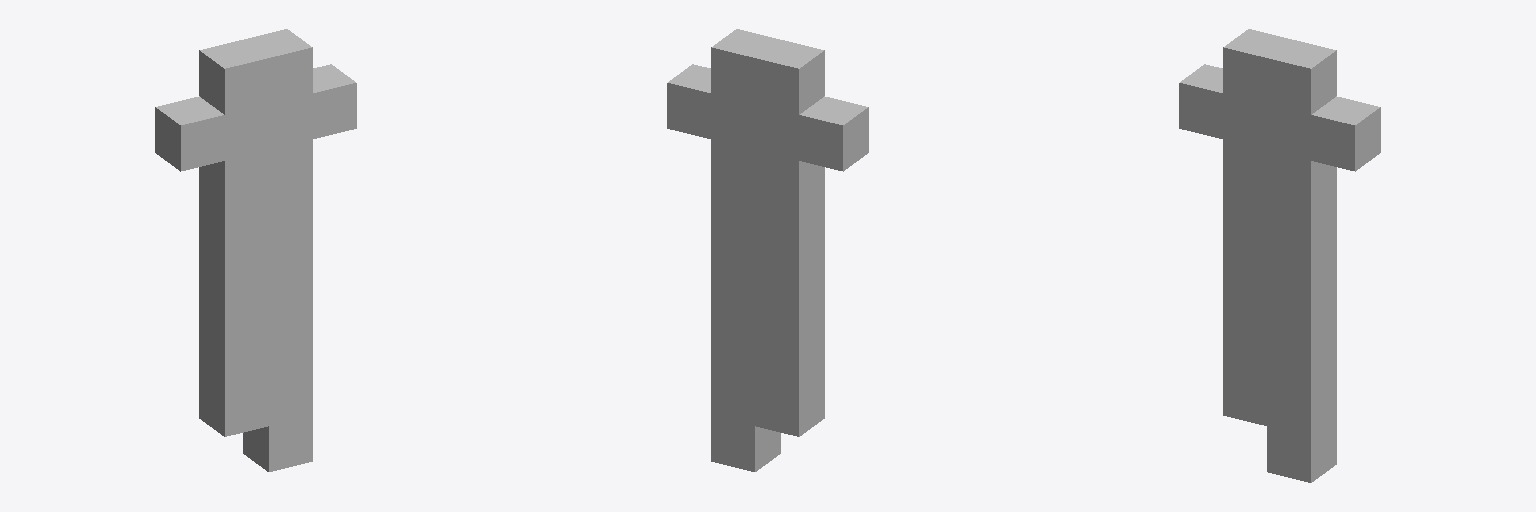
File: player-0.obj
The picture shows the model from 3 angles: view 1: azimuth 30°, elevation 25°; view 2: azimuth 150°, elevation 25°; view 3: azimuth 330°, elevation 25°; orthographic projection.
Parts seen in each view (by area): view 1: object 1; view 2: object 1; view 3: object 1.
Boxes of the visible parts, x1=… form: object 1: x1=155, y1=29, x2=356, y2=471; object 1: x1=667, y1=29, x2=868, y2=471; object 1: x1=1179, y1=29, x2=1380, y2=482.
Bounding box in the file's own units: 0.4 × 0.9 × 0.1.